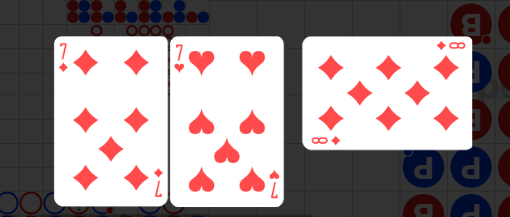7D: (152, 167, 164, 198)
7H: (268, 168, 281, 200)
8D: (434, 40, 466, 52)
